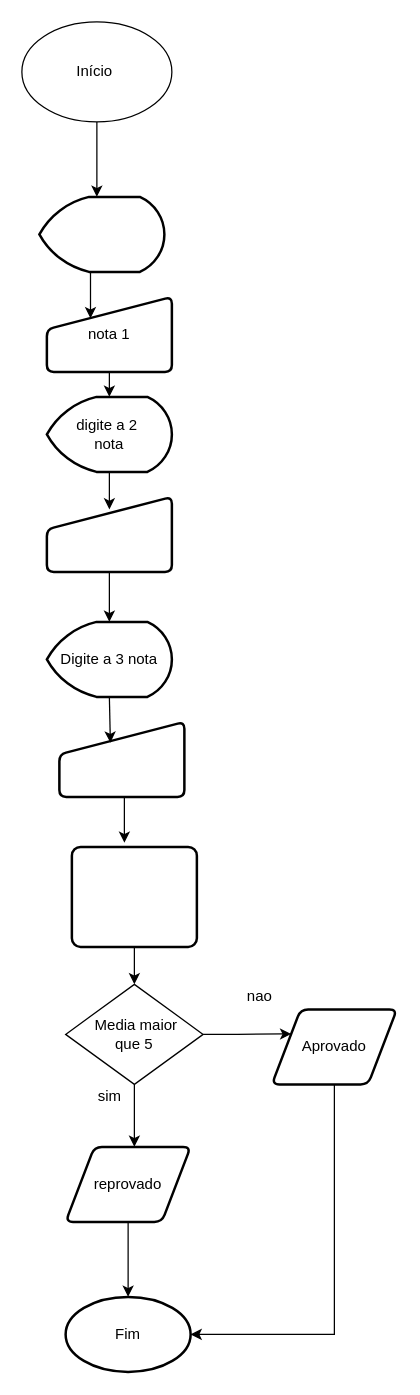
The diagram is 420 pixels wide and 1395 high, and some of its shapes have lost their labels. Here are the shapes that lost their labels. From the top down, the centre of each, then its label:
At (101,233): "digite 1 nota".
At (108,533): "nota 2".
At (121,759): "nota 3".
At (134,896): "(nota1 + nota2 + nota3) /3".
